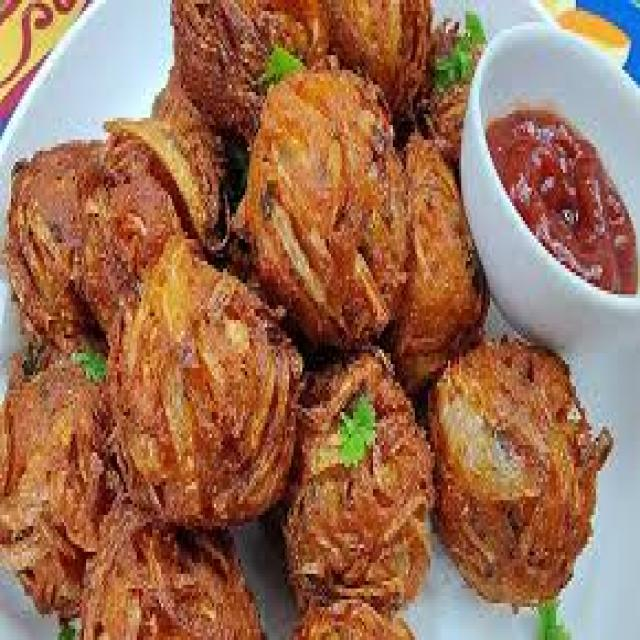BAJI: (0, 0, 607, 636)
